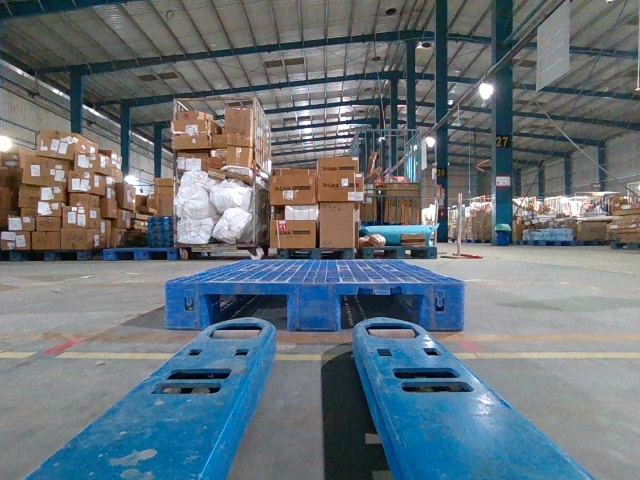pallet: (166, 281, 464, 330)
